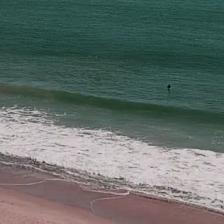surfer: (167, 84, 171, 88)
